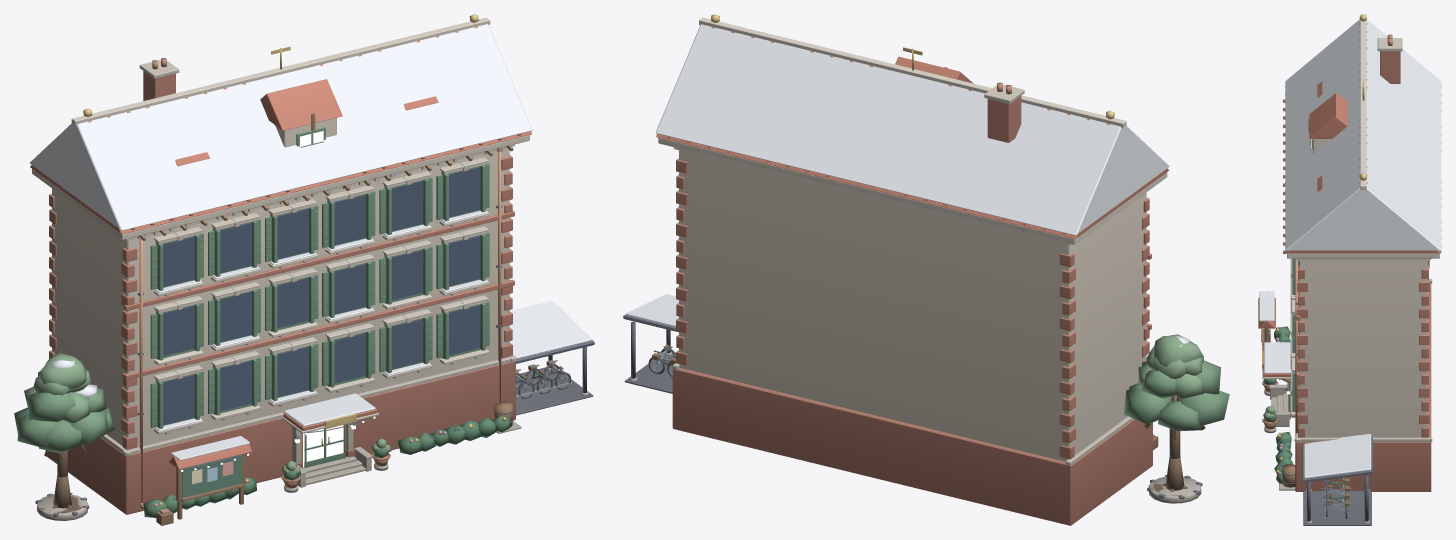
File: dorm_highschool.glb
3 views of the same model, side by side, from view 1: azimuth 30°, elevation 25°; view 2: azimuth 150°, elevation 25°; view 3: azimuth 270°, elevation 25° (orthographic). The views are drawn at different scales.
Parts seen in each view (by area): view 1: Season_Snow_Merged_Mat_Snow_Cap, Static_Merged_Mat_Wall_Plaster, Static_Merged_Mat_Wall_BrickRed, Static_Merged_Mat_Wood_Green, Static_Merged_Mat_Trim_Cream, Static_Merged_Mat_Stone_Trim, Static_Merged_Mat_Roof_Terracotta, Static_Merged_Mat_Leaf_Main, Static_Merged_Mat_Hedge_Leaf, Static_Merged_Mat_Leaf_Accent, Static_Merged_Mat_Wood_Warm, Static_Merged_Mat_Copper (+23 smaller); view 2: Static_Merged_Mat_Wall_Plaster, Season_Snow_Merged_Mat_Snow_Cap, Static_Merged_Mat_Wall_BrickRed, Static_Merged_Mat_Trim_Cream, Static_Merged_Mat_Leaf_Main, Static_Merged_Mat_Roof_Terracotta, Static_Merged_Mat_Leaf_Accent, Static_Merged_Mat_Stone_Trim, Static_Merged_Mat_Ground_Stone, Static_Merged_Mat_Trunk; view 3: Season_Snow_Merged_Mat_Snow_Cap, Static_Merged_Mat_Wall_Plaster, Static_Merged_Mat_Wall_BrickRed, Static_Merged_Mat_Trim_Cream, Static_Merged_Mat_Roof_Terracotta, Static_Merged_Mat_Stone_Trim, Static_Merged_Mat_Ground_Stone, Static_Merged_Mat_Hedge_Leaf, Static_Merged_Mat_Wood_Warm, Static_Merged_Mat_Wood_Green, Static_Merged_Mat_Metal_Dark, Static_Merged_Mat_Copper (+3 smaller).
Part boxes in pixels (left/top/right/bottom): Season_Snow_Merged_Mat_Snow_Cap: left=29, top=24, right=591, bottom=460; Static_Merged_Mat_Wall_Plaster: left=52, top=118, right=509, bottom=449; Static_Merged_Mat_Wall_BrickRed: left=48, top=71, right=515, bottom=514; Static_Merged_Mat_Wood_Green: left=150, top=127, right=543, bottom=467; Static_Merged_Mat_Trim_Cream: left=32, top=17, right=529, bottom=434; Static_Merged_Mat_Stone_Trim: left=37, top=60, right=588, bottom=520; Static_Merged_Mat_Roof_Terracotta: left=30, top=26, right=531, bottom=469; Static_Merged_Mat_Leaf_Main: left=14, top=388, right=114, bottom=453; Static_Merged_Mat_Hedge_Leaf: left=143, top=416, right=510, bottom=517; Static_Merged_Mat_Leaf_Accent: left=24, top=352, right=391, bottom=474; Static_Merged_Mat_Wood_Warm: left=139, top=113, right=563, bottom=525; Static_Merged_Mat_Copper: left=139, top=147, right=503, bottom=508; Static_Merged_Mat_Wall_Plaster: left=679, top=150, right=1146, bottom=461; Season_Snow_Merged_Mat_Snow_Cap: left=626, top=24, right=1189, bottom=346; Static_Merged_Mat_Wall_BrickRed: left=672, top=96, right=1152, bottom=525; Static_Merged_Mat_Trim_Cream: left=658, top=17, right=1167, bottom=245; Static_Merged_Mat_Leaf_Main: left=1124, top=360, right=1229, bottom=431; Static_Merged_Mat_Roof_Terracotta: left=656, top=27, right=1169, bottom=239; Static_Merged_Mat_Leaf_Accent: left=1138, top=336, right=1204, bottom=398; Static_Merged_Mat_Stone_Trim: left=629, top=84, right=1201, bottom=503; Static_Merged_Mat_Ground_Stone: left=624, top=353, right=1202, bottom=499; Static_Merged_Mat_Trunk: left=1144, top=395, right=1205, bottom=495; Season_Snow_Merged_Mat_Snow_Cap: left=1259, top=19, right=1441, bottom=478; Static_Merged_Mat_Wall_Plaster: left=1299, top=139, right=1427, bottom=437; Static_Merged_Mat_Wall_BrickRed: left=1288, top=51, right=1431, bottom=491; Static_Merged_Mat_Trim_Cream: left=1262, top=15, right=1439, bottom=416; Static_Merged_Mat_Roof_Terracotta: left=1258, top=23, right=1441, bottom=376; Static_Merged_Mat_Stone_Trim: left=1264, top=38, right=1432, bottom=523; Static_Merged_Mat_Ground_Stone: left=1303, top=491, right=1371, bottom=525; Static_Merged_Mat_Hedge_Leaf: left=1263, top=326, right=1292, bottom=483; Static_Merged_Mat_Wood_Warm: left=1261, top=99, right=1349, bottom=506; Static_Merged_Mat_Wood_Green: left=1288, top=139, right=1345, bottom=504; Static_Merged_Mat_Metal_Dark: left=1282, top=302, right=1368, bottom=521; Static_Merged_Mat_Copper: left=1295, top=259, right=1297, bottom=435.
Size of the model in its own units: 25.57 by 17.21 by 8.57.
